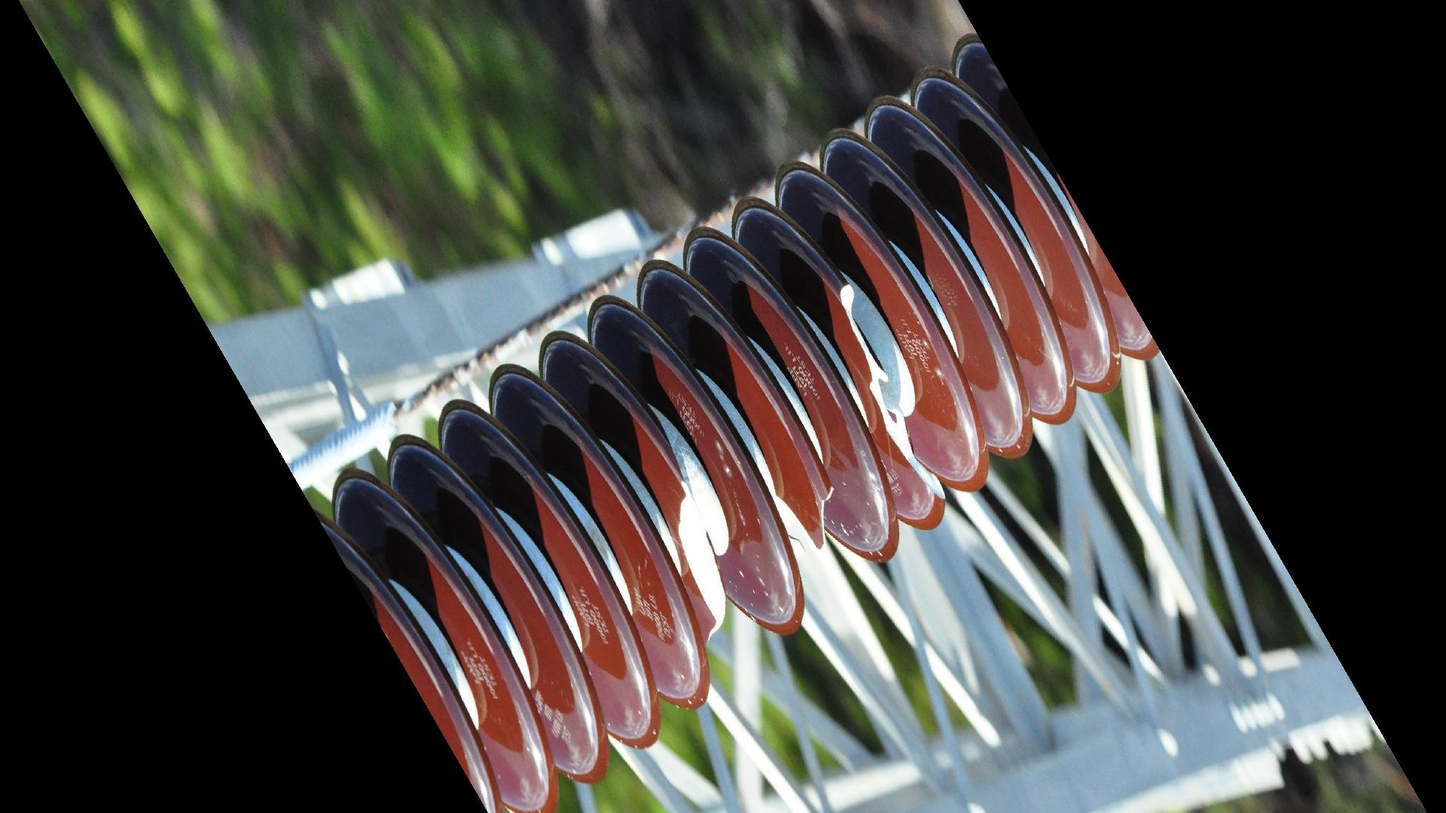insulator: (309, 28, 1169, 813)
insulator_breakage: (828, 276, 953, 513), (667, 475, 734, 649), (773, 470, 850, 561)
